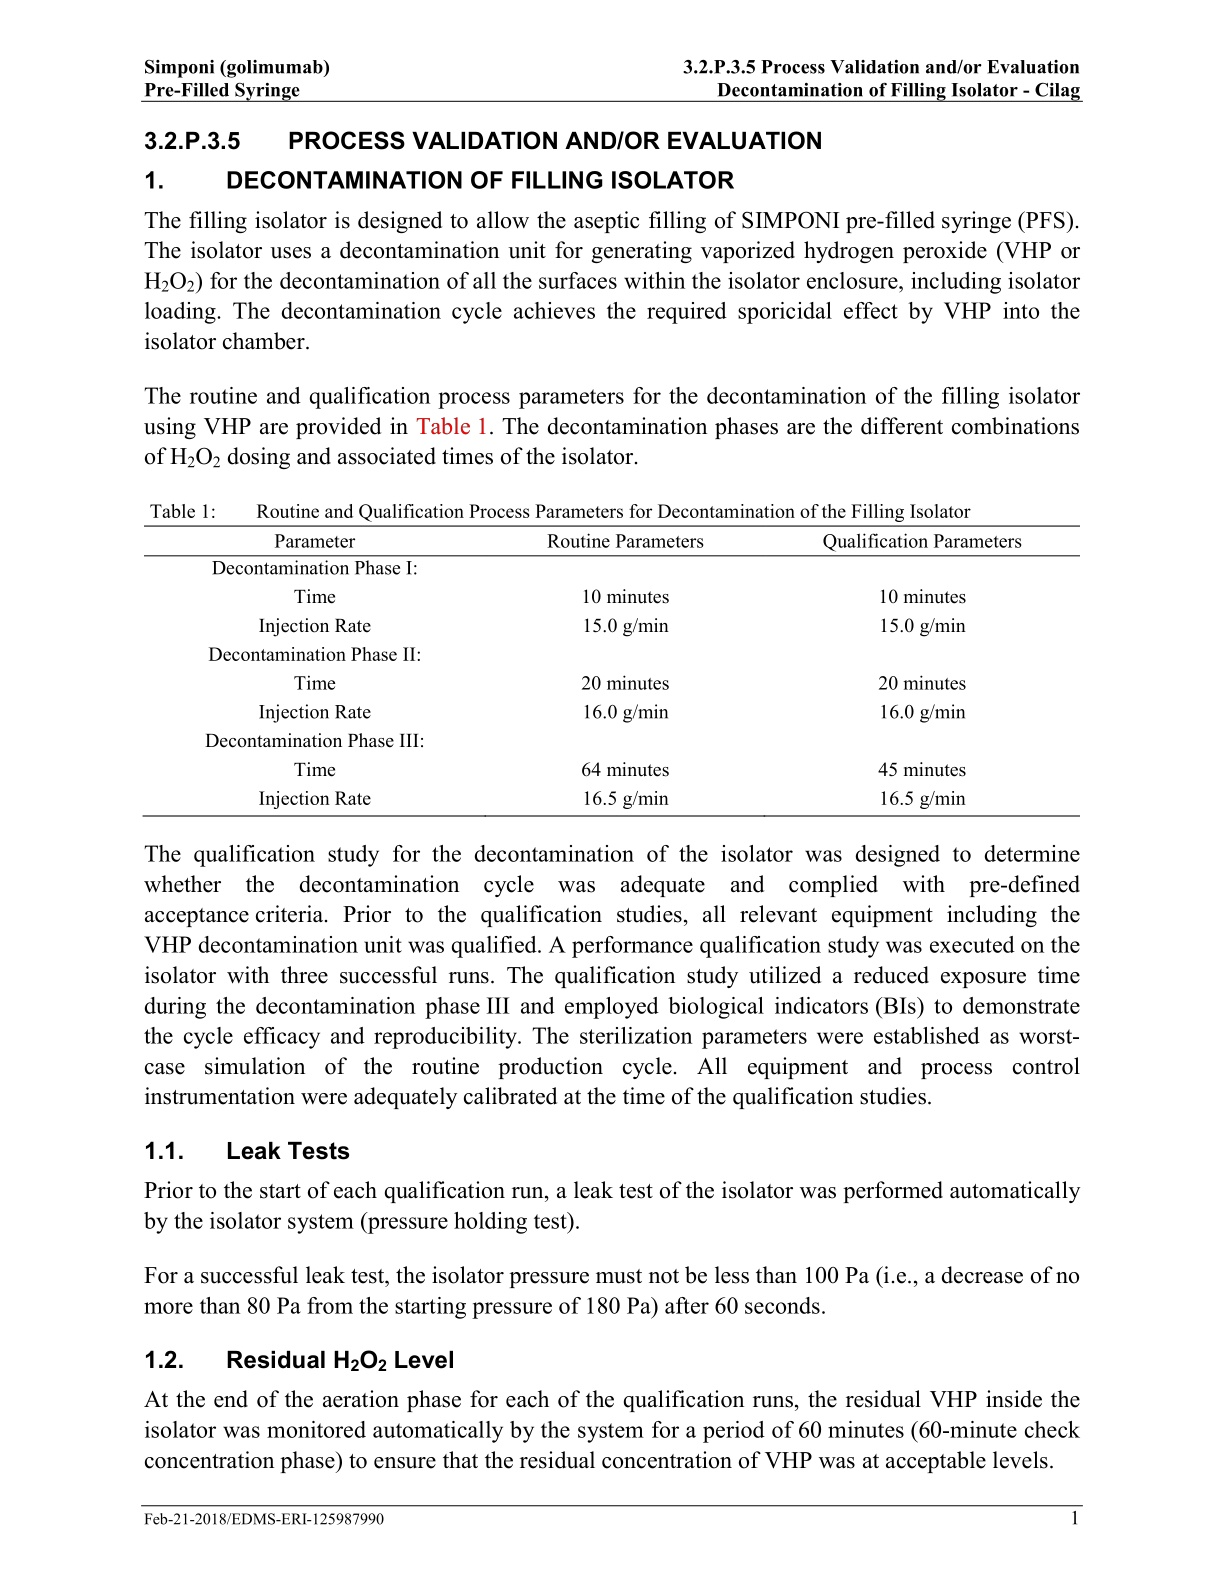partial_lined: (143, 525, 1081, 818)
